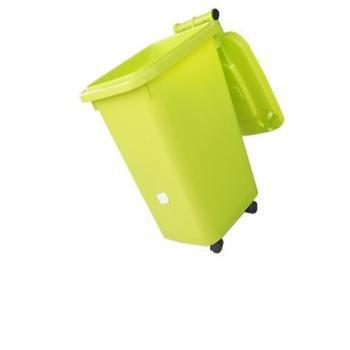Bote de Basura: (87, 15, 281, 253)
